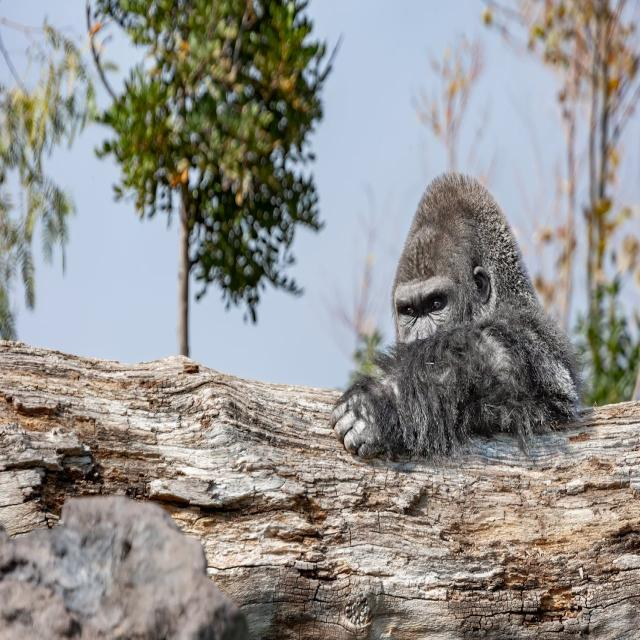Gorilla: (330, 171, 584, 464)
